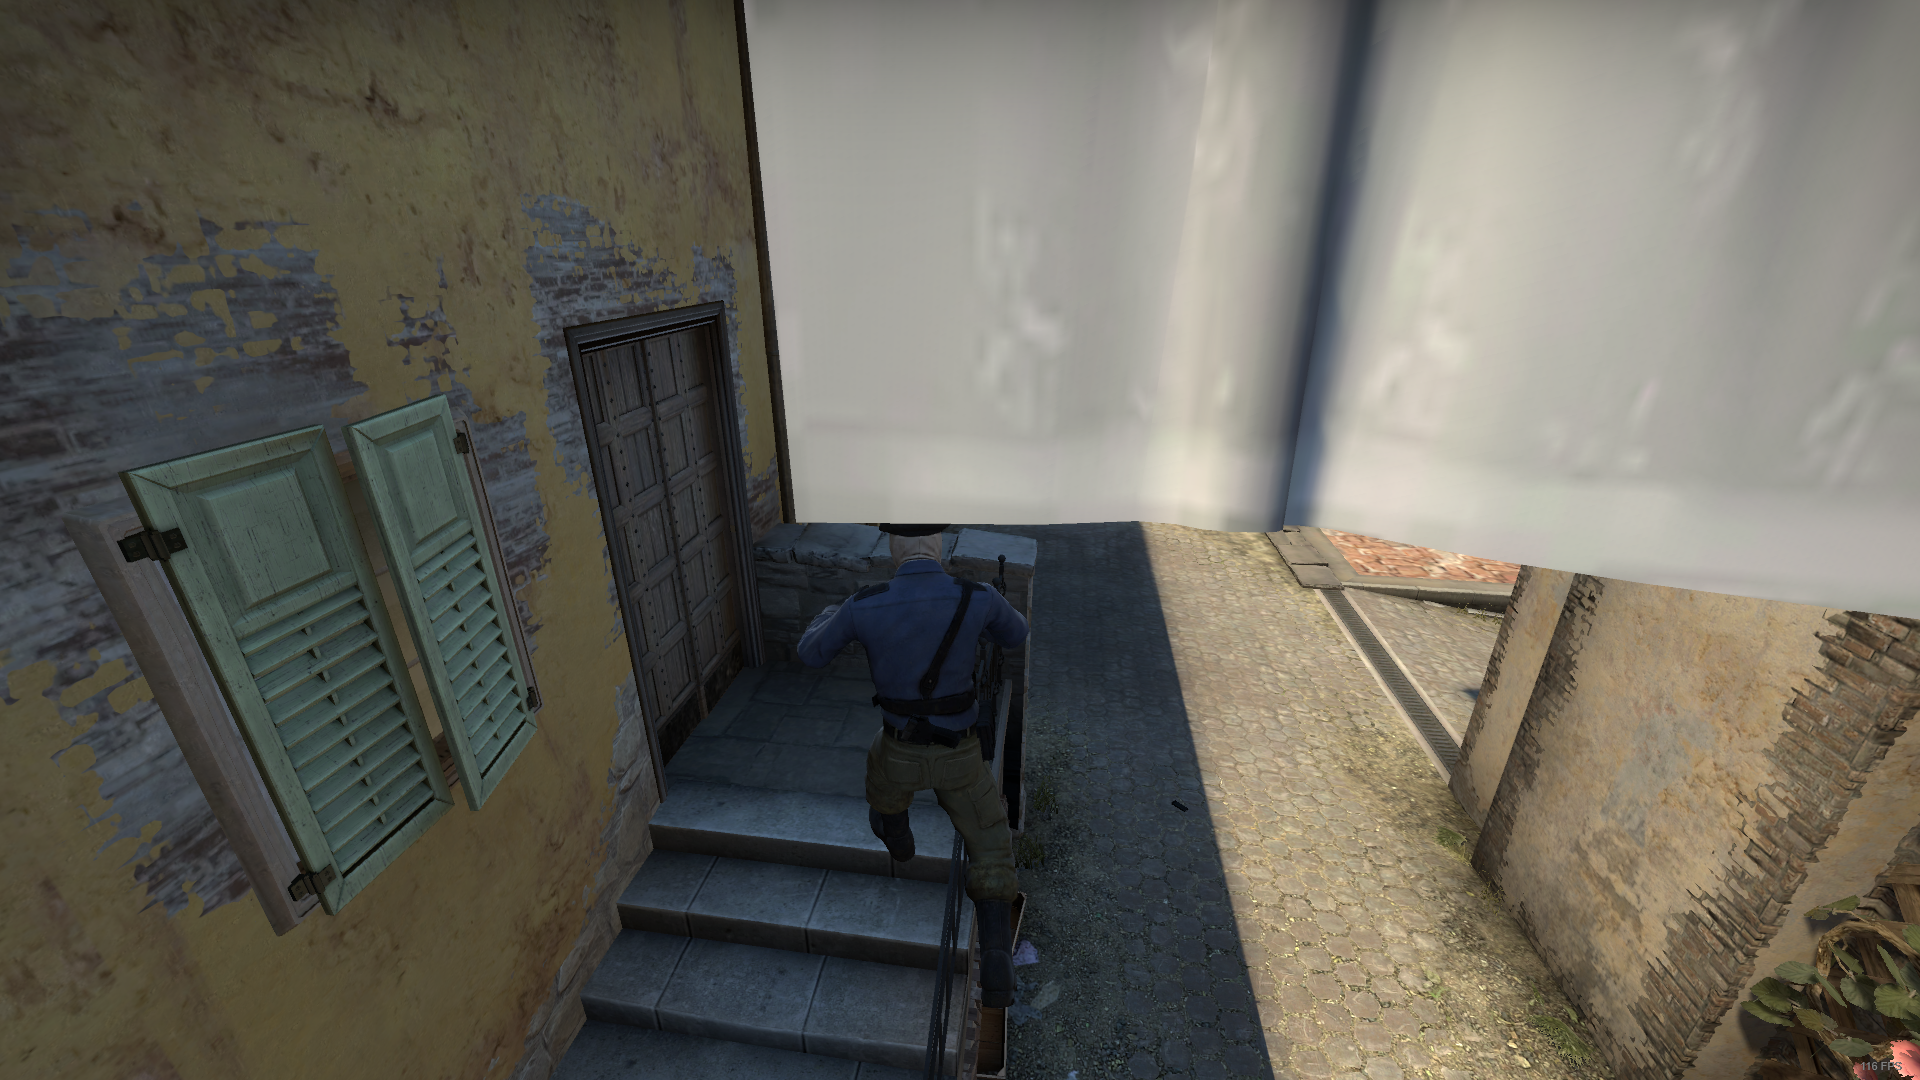t: (796, 520, 1058, 1013)
